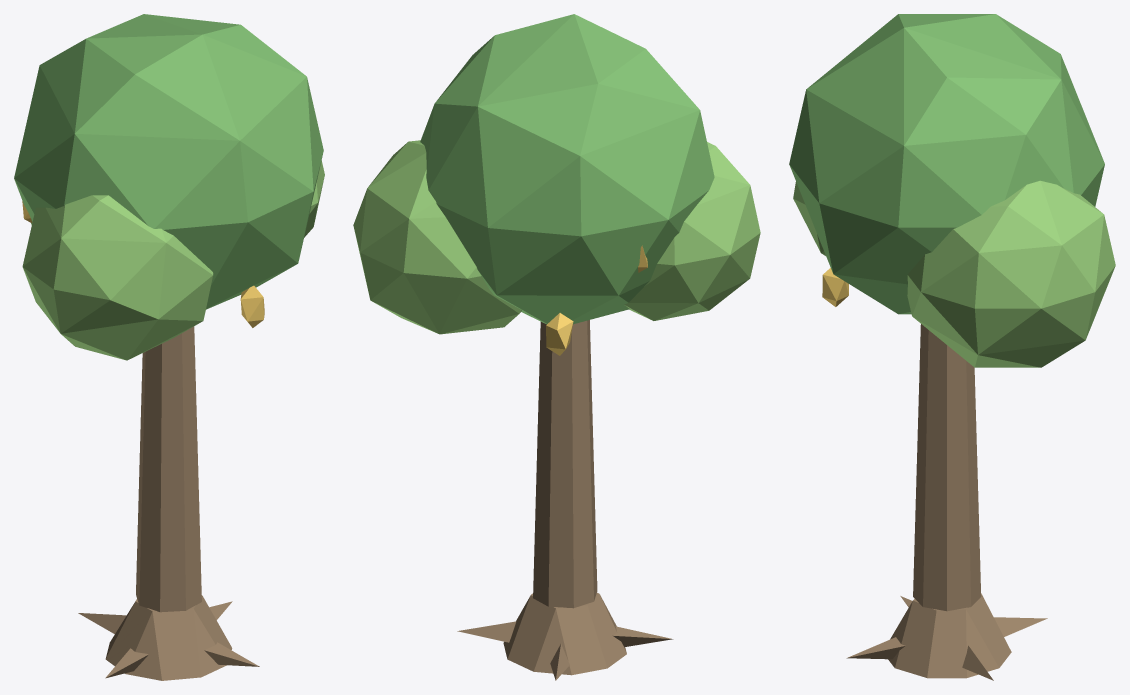
File: 50-Vegetacion_arbol_frutal.glb
3 views of the same model, side by side, from view 1: azimuth 30°, elevation 25°; view 2: azimuth 150°, elevation 25°; view 3: azimuth 270°, elevation 25° (orthographic). The views are drawn at different scales.
Visible parts, largest first — view 1: SM_Frutal_M_Frutal_Hoja, SM_Frutal_M_Frutal_Corteza, SM_Frutal_M_Frutal_HojaClr, SM_Frutal_M_Frutal_Fruto; view 2: SM_Frutal_M_Frutal_Hoja, SM_Frutal_M_Frutal_HojaClr, SM_Frutal_M_Frutal_Corteza, SM_Frutal_M_Frutal_Fruto; view 3: SM_Frutal_M_Frutal_Hoja, SM_Frutal_M_Frutal_HojaClr, SM_Frutal_M_Frutal_Corteza, SM_Frutal_M_Frutal_Fruto.
Part boxes in pixels (x1,y1,x2,y2): SM_Frutal_M_Frutal_Hoja: (14,14,323,309); SM_Frutal_M_Frutal_Corteza: (78,326,259,680); SM_Frutal_M_Frutal_HojaClr: (22,161,324,360); SM_Frutal_M_Frutal_Fruto: (22,201,264,327); SM_Frutal_M_Frutal_Hoja: (420,14,714,324); SM_Frutal_M_Frutal_HojaClr: (353,140,760,334); SM_Frutal_M_Frutal_Corteza: (457,320,673,680); SM_Frutal_M_Frutal_Fruto: (546,245,647,355); SM_Frutal_M_Frutal_Hoja: (789,14,1104,314); SM_Frutal_M_Frutal_HojaClr: (793,180,1115,367); SM_Frutal_M_Frutal_Corteza: (846,324,1047,680); SM_Frutal_M_Frutal_Fruto: (822,268,848,306).
Bounding box in the file's own units: 2.1 × 3.88 × 1.82.
